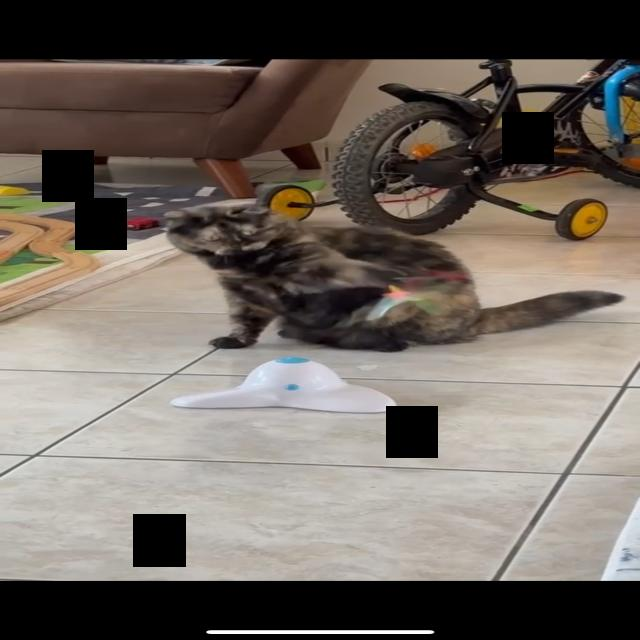authorized: (161, 202, 624, 353)
